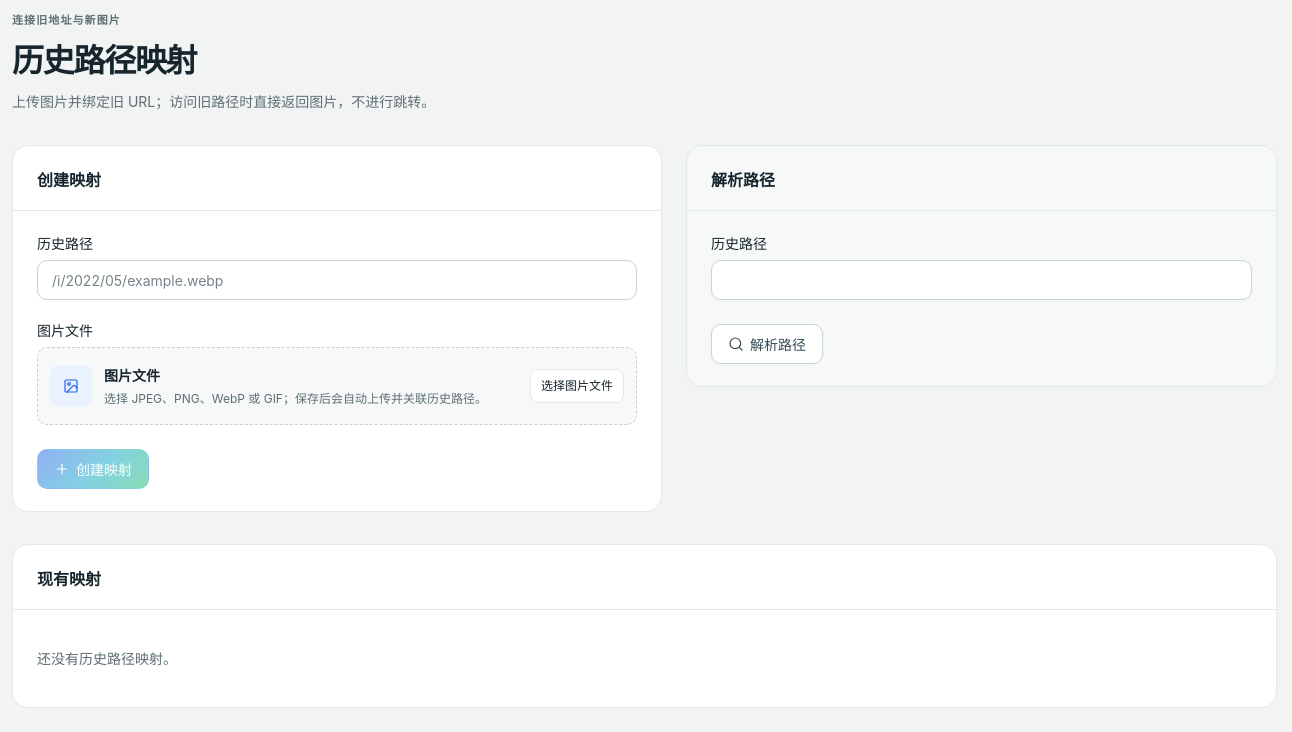
Test: AliasPage › renders empty and error states without hiding the management forms
This screenshot has width=1292, height=732.
Check: the text "还没有历史路径映射。" is shown, box [37,650,177,667]
Check: the button "创建映射" is shown, box [37,449,149,489]
Type "/missing.webp" into the 2nd field labelled "历史路径".
click(982, 280); type("/missing.webp")  # box [711,260,1252,300]
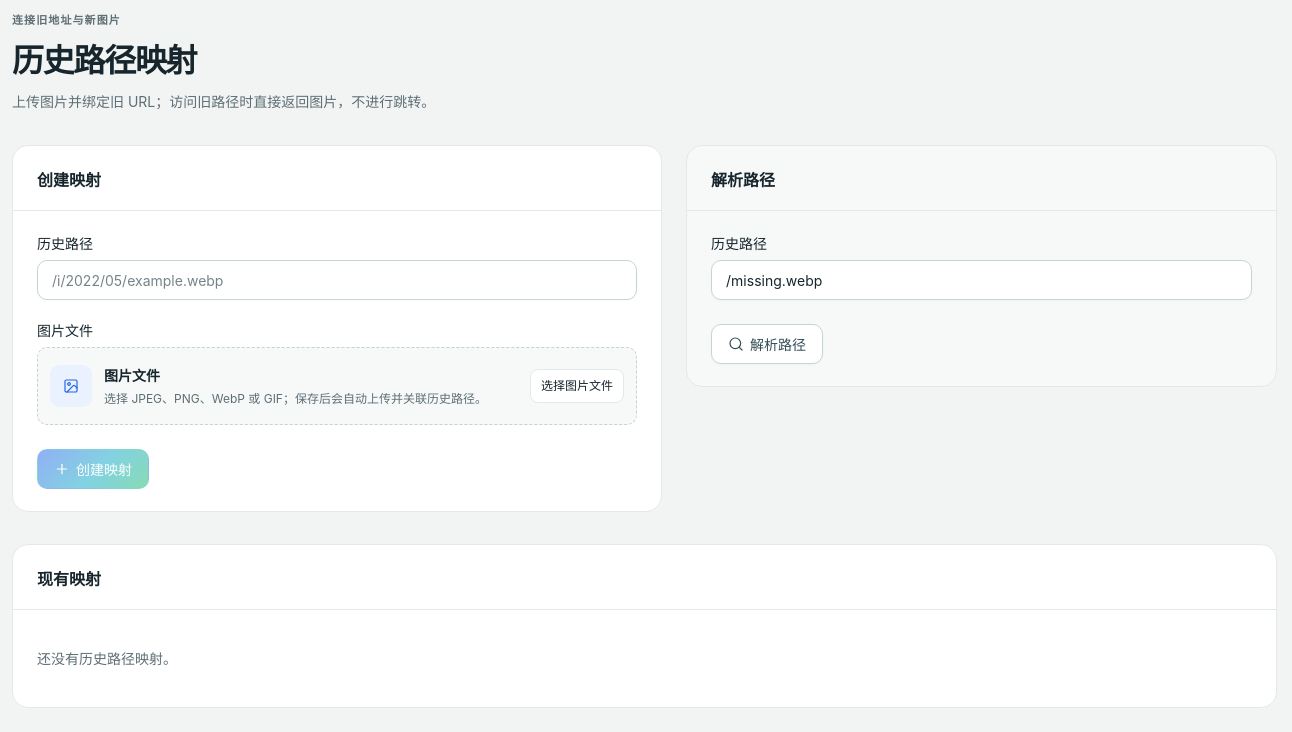
Click the button "解析路径".
click(767, 344)  # box [711,324,823,364]
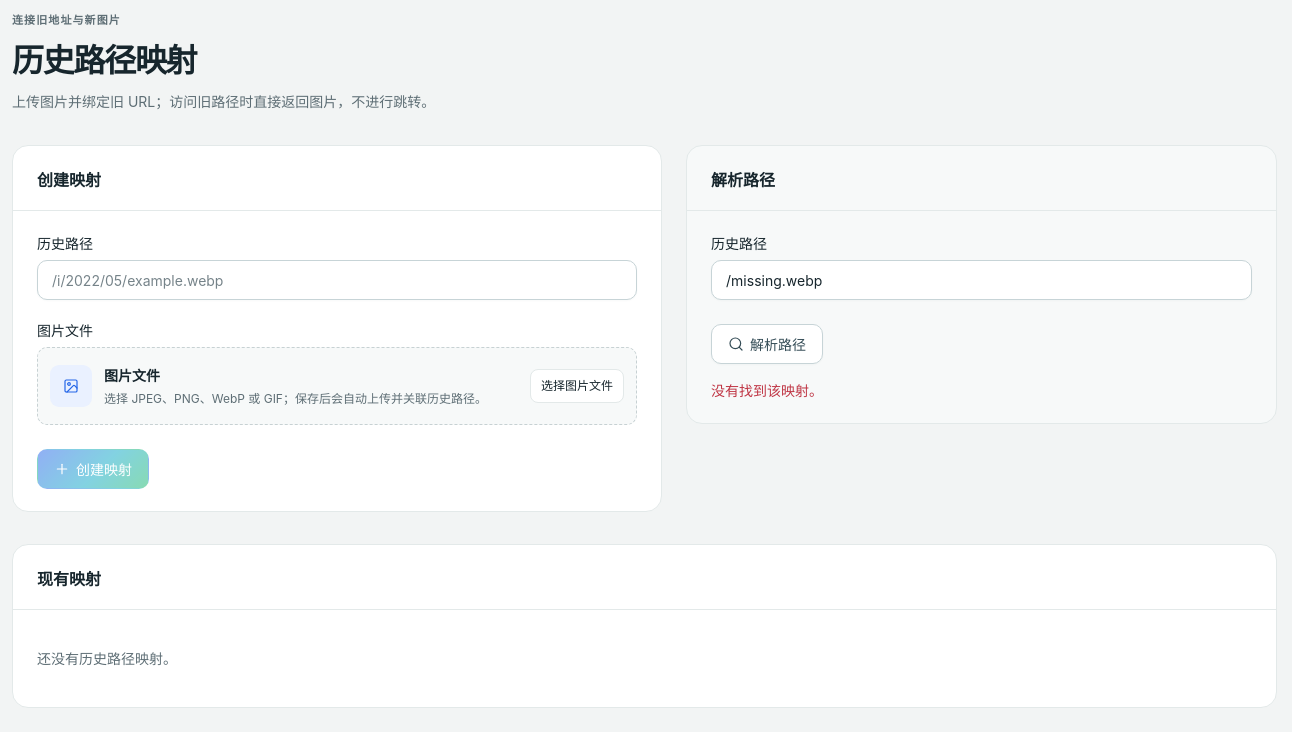
Check: the text "没有找到该映射。" is shown, box [711,382,823,399]
